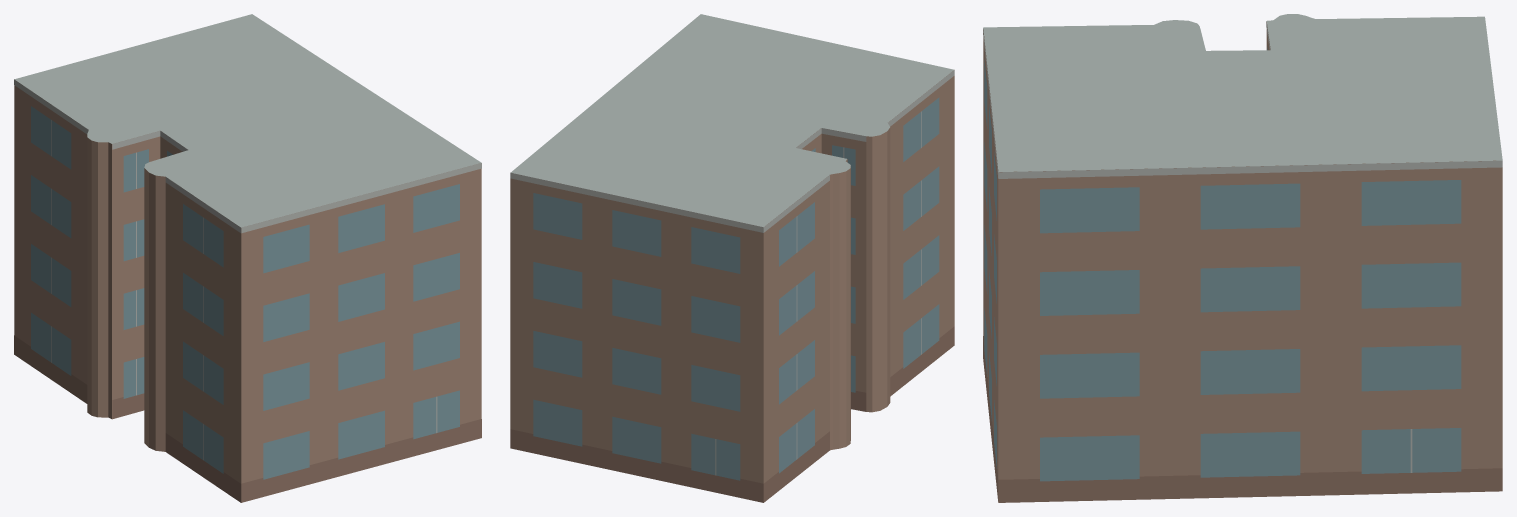
The model's file is survey-upis-32819343.glb.
3 renders of one model, left to right at view 1: azimuth 30°, elevation 25°; view 2: azimuth 150°, elevation 25°; view 3: azimuth 270°, elevation 25°, orthographic. The views are drawn at different scales.
Visible parts, largest first — view 1: survey-upis-32819343.tmp; view 2: survey-upis-32819343.tmp; view 3: survey-upis-32819343.tmp.
Boxes of the visible parts, x1=… form: survey-upis-32819343.tmp: x1=14, y1=14, x2=481, y2=502; survey-upis-32819343.tmp: x1=510, y1=14, x2=954, y2=502; survey-upis-32819343.tmp: x1=983, y1=14, x2=1502, y2=502.
Size of the model in its own units: 12.01 by 11.7 by 16.67.
